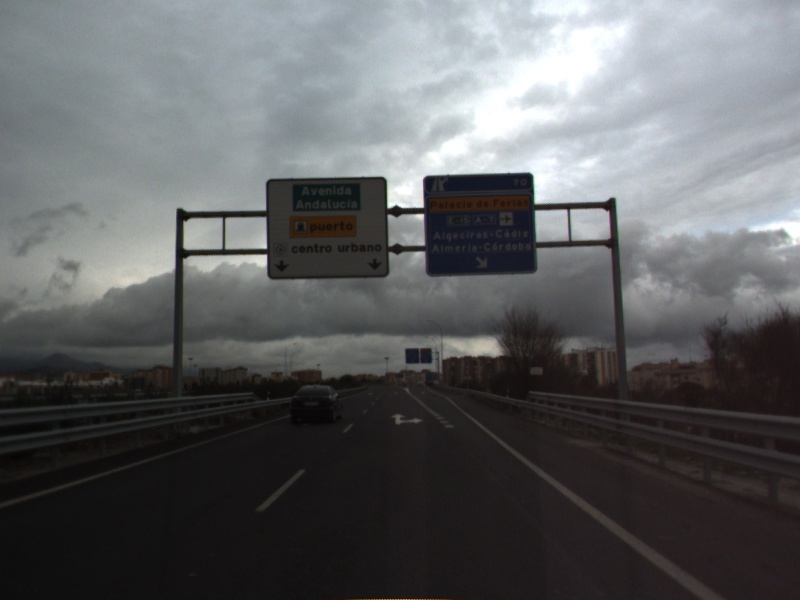STRAIGHT_RIGHT: (388, 411, 426, 427)
